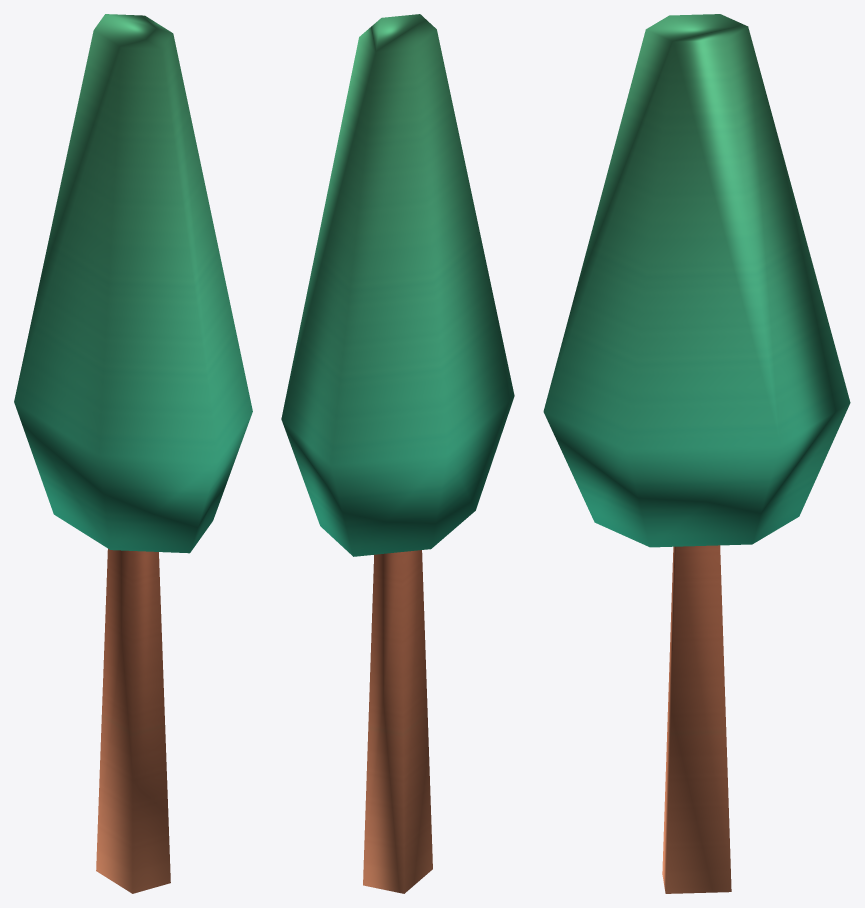
Rendered from n1_tree-large_lev1.012.glb.
The picture shows the model from 3 angles, left to right: view 1: azimuth 30°, elevation 25°; view 2: azimuth 150°, elevation 25°; view 3: azimuth 270°, elevation 25°; orthographic projection.
Visible parts, largest first — view 1: n1_tree-large_lev1.012; view 2: n1_tree-large_lev1.012; view 3: n1_tree-large_lev1.012.
Boxes of the visible parts, bbox=[...] form: n1_tree-large_lev1.012: bbox=[14, 14, 252, 893]; n1_tree-large_lev1.012: bbox=[281, 14, 514, 893]; n1_tree-large_lev1.012: bbox=[543, 14, 850, 893].
Size of the model in its own units: 1.21 by 5.77 by 1.88.
1 material, 1 textured.
